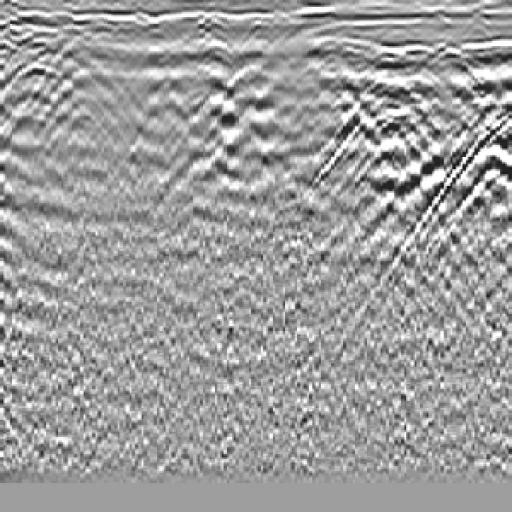non-metallic: (310, 35, 512, 267)
